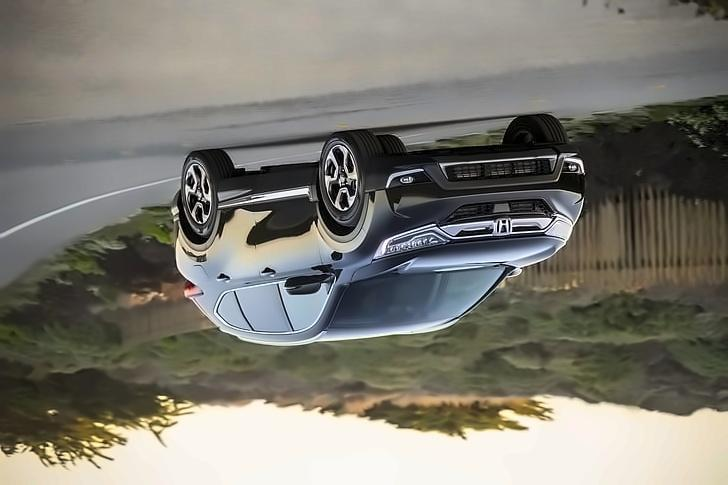Car hood: (349, 232, 573, 283)
Fender - -F-L-: (309, 178, 380, 290)
Fender - -R-L-: (178, 228, 214, 294)
Front bumper: (357, 138, 592, 236)
Headlight - -L-: (370, 218, 453, 263)
Headlight - -R-: (540, 213, 579, 244)
Passenger-s door - -F-L-: (253, 202, 335, 336)
Passenger-s door - -R-L-: (209, 199, 286, 340)
Rear bumper: (161, 185, 189, 245)
Rear light - -L-: (177, 272, 209, 307)
Side bumper - -L-: (207, 164, 325, 212)
Side mirror - -L-: (279, 269, 331, 303)
Side mirror - -R-: (503, 259, 527, 286)
